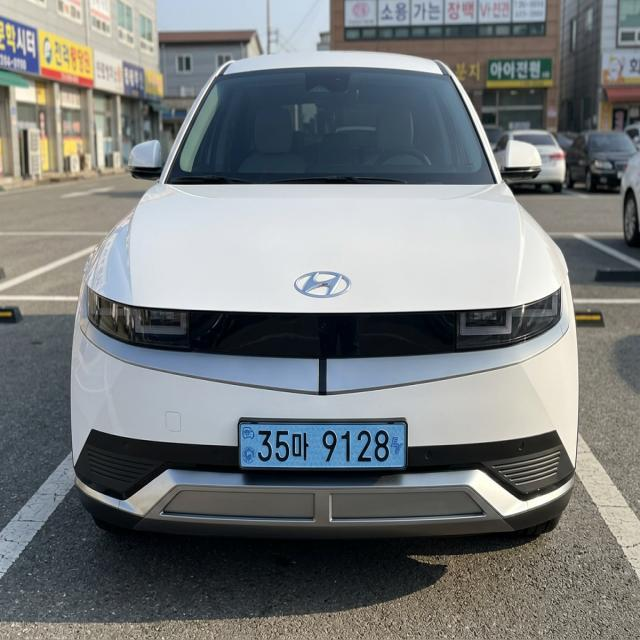car: (221, 405, 425, 492)
carev: (239, 411, 257, 475), (389, 417, 409, 474)
